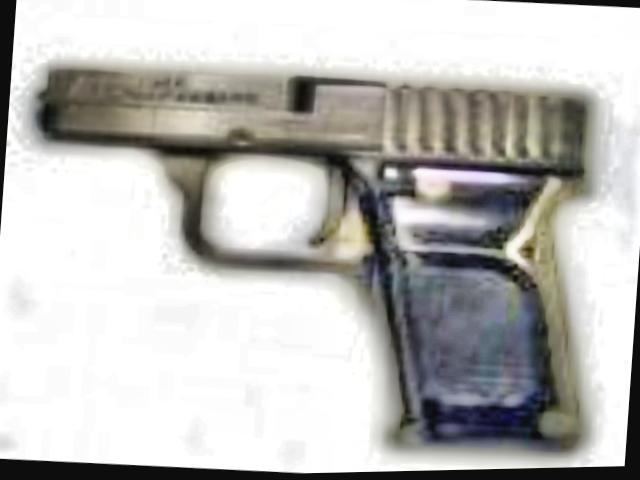pistol: (10, 37, 608, 463)
